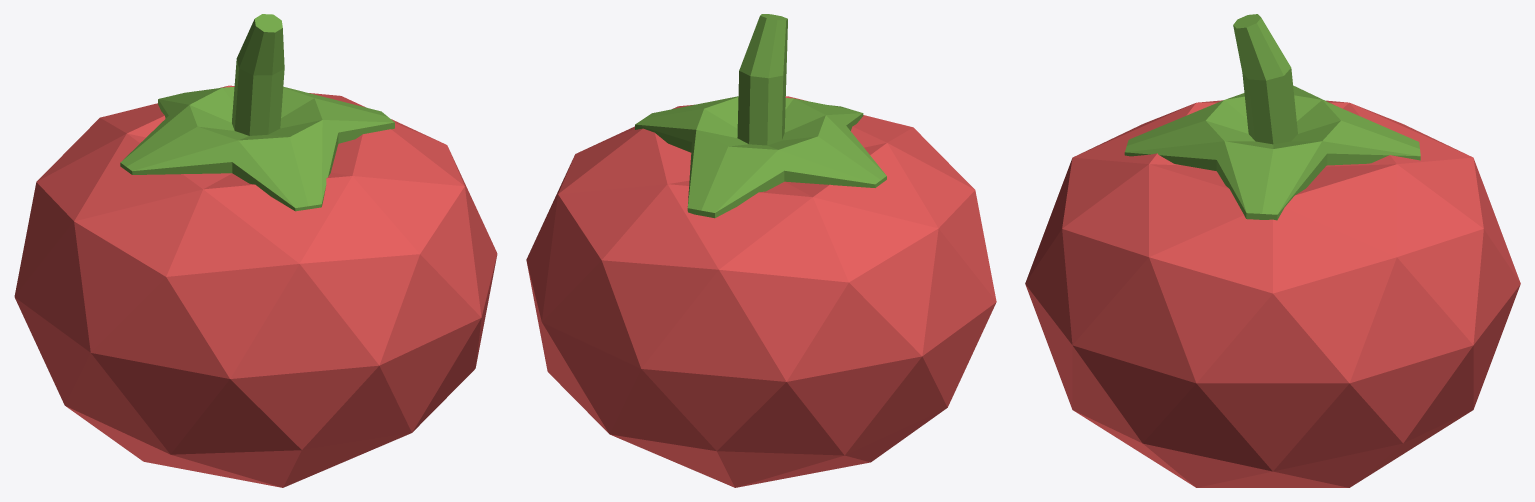
Rendered from Tomato.fbx.
The picture shows the model from 3 angles, left to right: view 1: azimuth 30°, elevation 25°; view 2: azimuth 150°, elevation 25°; view 3: azimuth 270°, elevation 25°; orthographic projection. The views are drawn at different scales.
Visible parts, largest first — view 1: Cube; view 2: Cube; view 3: Cube.
Part boxes in pixels (x1,y1,x2,y2): Cube: (14,14,497,487); Cube: (526,14,996,487); Cube: (1025,14,1520,487).
Bounding box in the file's own units: 54.39 × 57.8 × 57.18.
